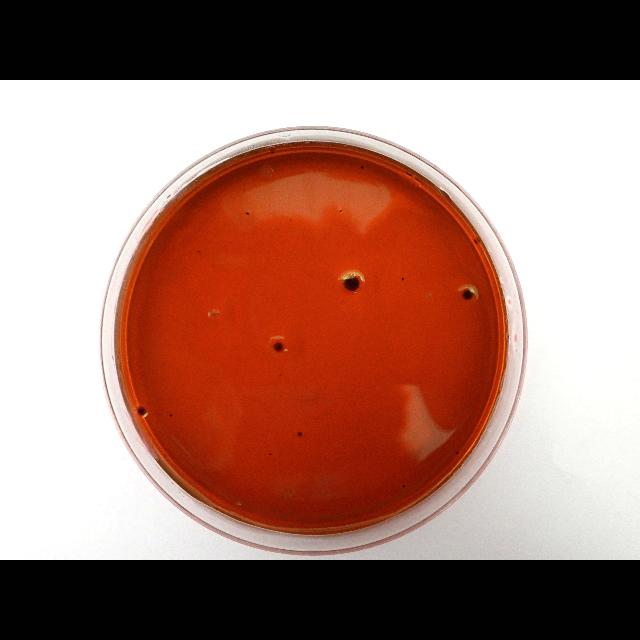colony: (339, 269, 363, 293), (272, 340, 286, 354), (462, 287, 474, 301), (136, 406, 146, 416), (244, 210, 250, 216), (298, 431, 302, 437), (402, 484, 406, 490), (401, 276, 405, 282), (270, 151, 276, 155), (361, 164, 364, 170), (269, 452, 273, 456), (197, 249, 200, 253), (456, 450, 458, 456), (340, 208, 342, 212), (170, 413, 172, 417), (279, 374, 281, 376)
